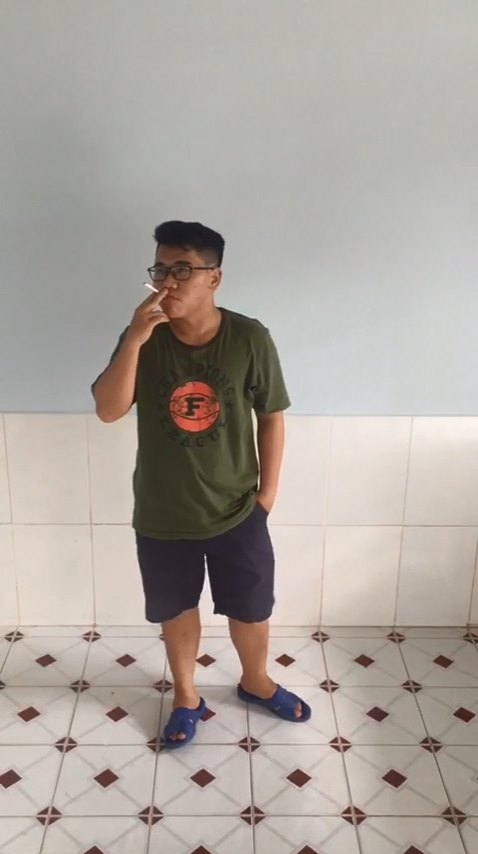cigarette: (142, 277, 163, 300)
person: (85, 190, 336, 767)
